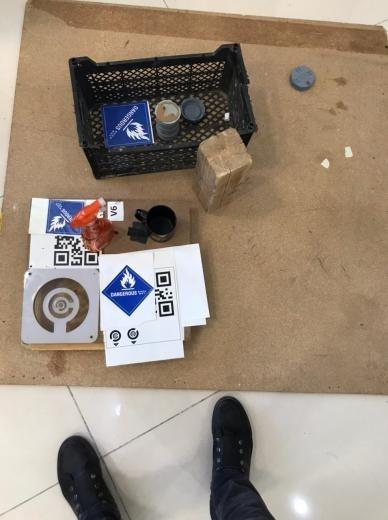dangerous-when-wet: (101, 265, 154, 316), (99, 101, 153, 148), (45, 199, 86, 235)
